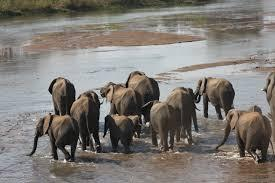elephant: (100, 71, 272, 162), (27, 77, 100, 161), (262, 72, 274, 116)
